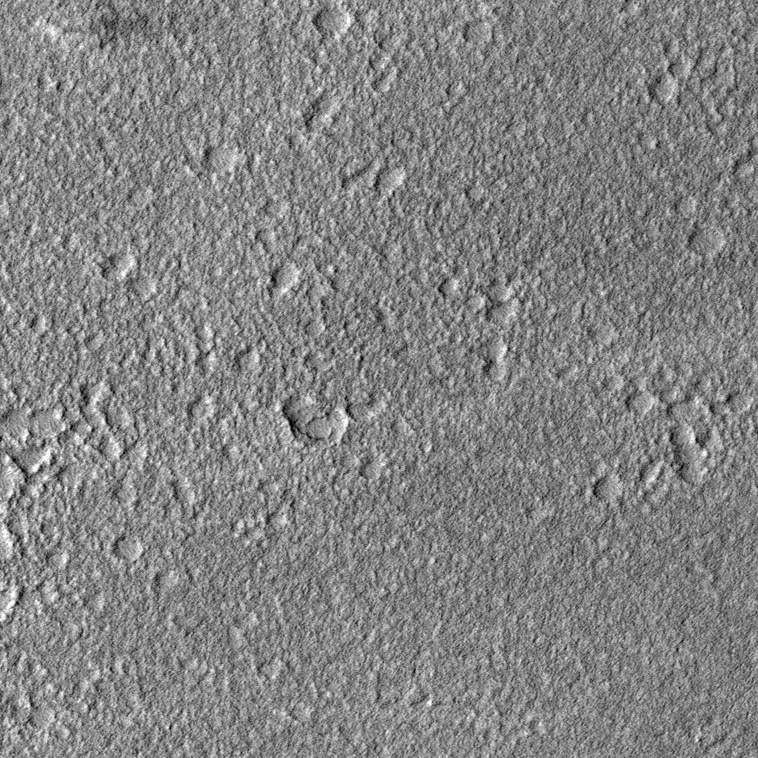dust_devil: (31, 8, 161, 52)
